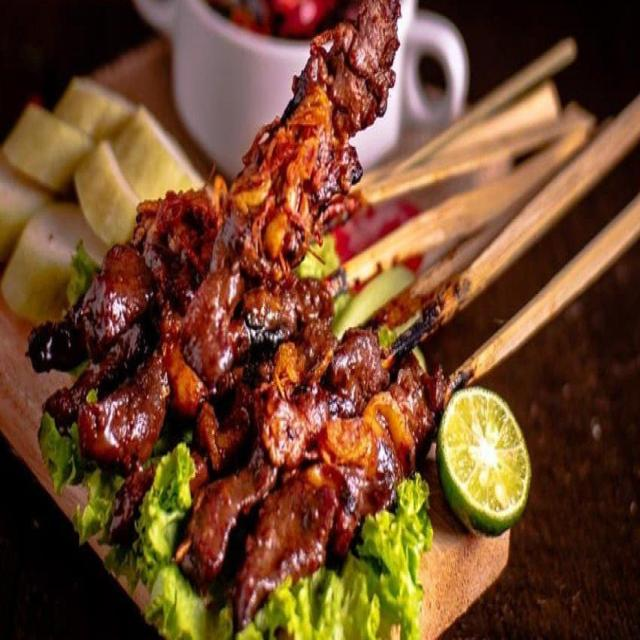Sate: (103, 21, 621, 496)
